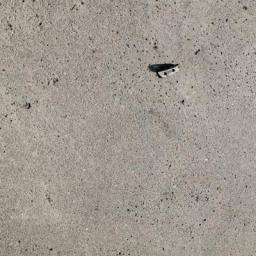FOD: (146, 62, 185, 82)
